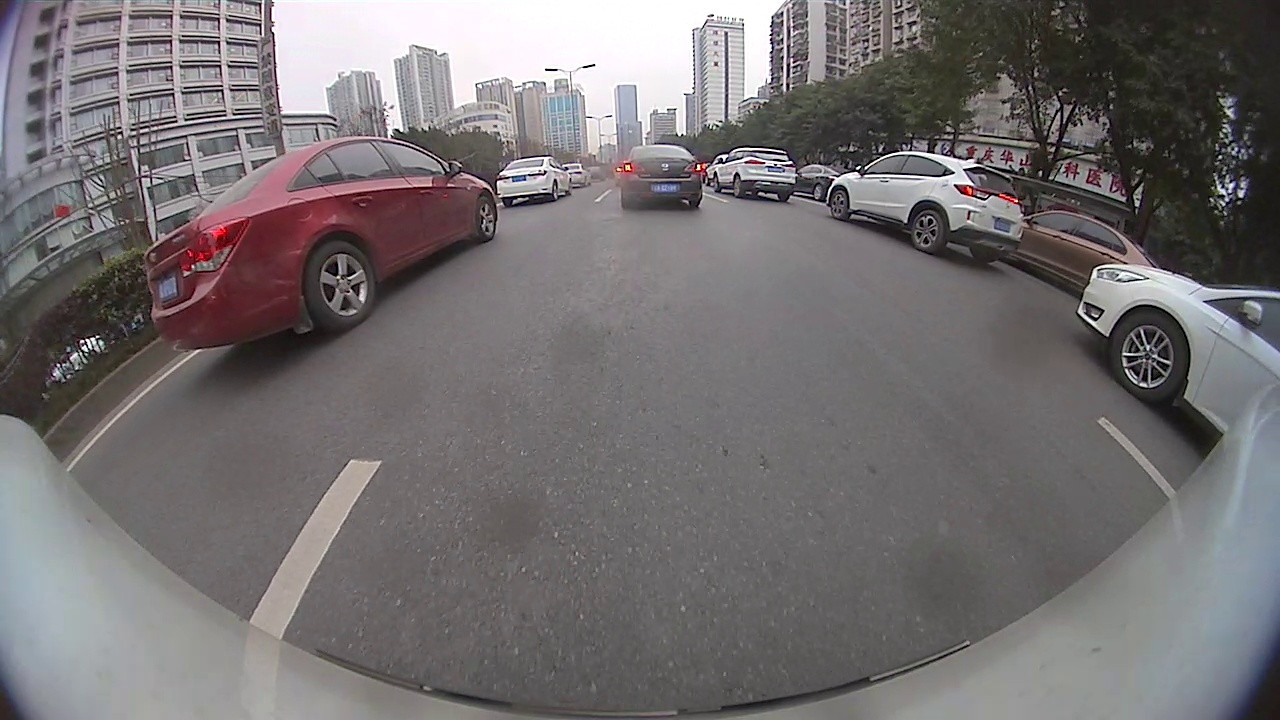car: (135, 140, 499, 350), (1073, 263, 1277, 435), (826, 147, 1026, 263), (1016, 209, 1165, 292), (619, 143, 706, 208), (714, 148, 799, 203), (504, 156, 570, 205)
front: (1109, 308, 1189, 407), (476, 192, 497, 243), (829, 188, 851, 223)
rear: (304, 239, 376, 327), (910, 207, 947, 254), (733, 172, 744, 199), (812, 181, 825, 201)
